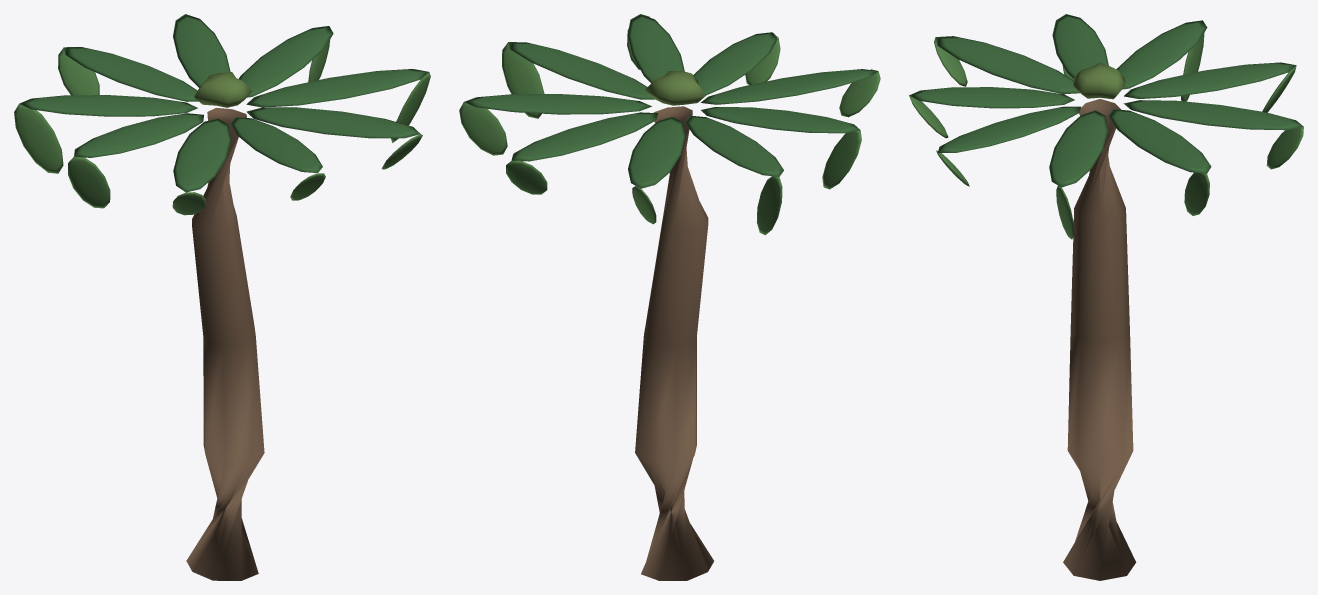
The model's file is tree_garden_i.glb.
3 views of the same model, side by side, from view 1: azimuth 30°, elevation 25°; view 2: azimuth 150°, elevation 25°; view 3: azimuth 270°, elevation 25° (orthographic).
Visible parts, largest first — view 1: Tint, Palm frond.002, Palm frond.001, Palm frond.006, Palm frond.005, Palm frond.003, Palm frond.008, Palm frond.007, Palm frond.004, Palm frond, Palm frond tip.006, Palm frond tip.007 (+5 smaller); view 2: Tint, Palm frond.002, Palm frond.003, Palm frond.004, Palm frond.005, Palm frond.008, Palm frond.006, Palm frond.007, Palm frond, Palm frond.001, Palm frond tip.003, Crown bud (+6 smaller); view 3: Tint, Palm frond.008, Palm frond.004, Palm frond.005, Palm frond.003, Palm frond.002, Palm frond, Palm frond.006, Palm frond.001, Palm frond.007, Crown bud, Palm frond tip.004 (+5 smaller).
Part boxes in pixels (x1,y1,x2,y2): Tint: (186, 107, 264, 580); Palm frond.002: (246, 69, 428, 107); Palm frond.001: (246, 107, 420, 138); Palm frond.006: (19, 95, 197, 116); Palm frond.005: (64, 47, 198, 101); Palm frond.003: (239, 26, 333, 97); Palm frond.008: (173, 118, 231, 192); Palm frond.007: (74, 113, 203, 157); Palm frond.004: (173, 14, 230, 87); Palm frond: (230, 117, 322, 172); Palm frond tip.006: (14, 104, 63, 173); Palm frond tip.007: (68, 156, 110, 208); Tint: (635, 106, 713, 580); Palm frond.002: (508, 42, 654, 99); Palm frond.003: (464, 94, 651, 114); Palm frond.004: (511, 112, 657, 161); Palm frond.005: (628, 117, 685, 188); Palm frond.008: (700, 69, 877, 104); Palm frond.006: (685, 115, 783, 176); Palm frond.007: (701, 107, 860, 133); Palm frond: (693, 32, 777, 95); Palm frond.001: (627, 14, 684, 83); Palm frond tip.003: (459, 102, 507, 155); Crown bud: (645, 70, 705, 105); Tint: (1063, 99, 1136, 580); Palm frond.008: (935, 36, 1079, 94); Palm frond.004: (1123, 100, 1303, 130); Palm frond.005: (1124, 62, 1296, 98); Palm frond.003: (1108, 109, 1211, 173); Palm frond.002: (1049, 110, 1108, 187); Palm frond: (909, 87, 1074, 108); Palm frond.006: (1116, 20, 1207, 89); Palm frond.001: (938, 106, 1080, 152); Palm frond.007: (1052, 14, 1108, 78); Crown bud: (1073, 62, 1125, 99); Palm frond tip.004: (1266, 123, 1303, 169).
Bounding box in the file's own units: 1.8 × 2.36 × 1.7.
